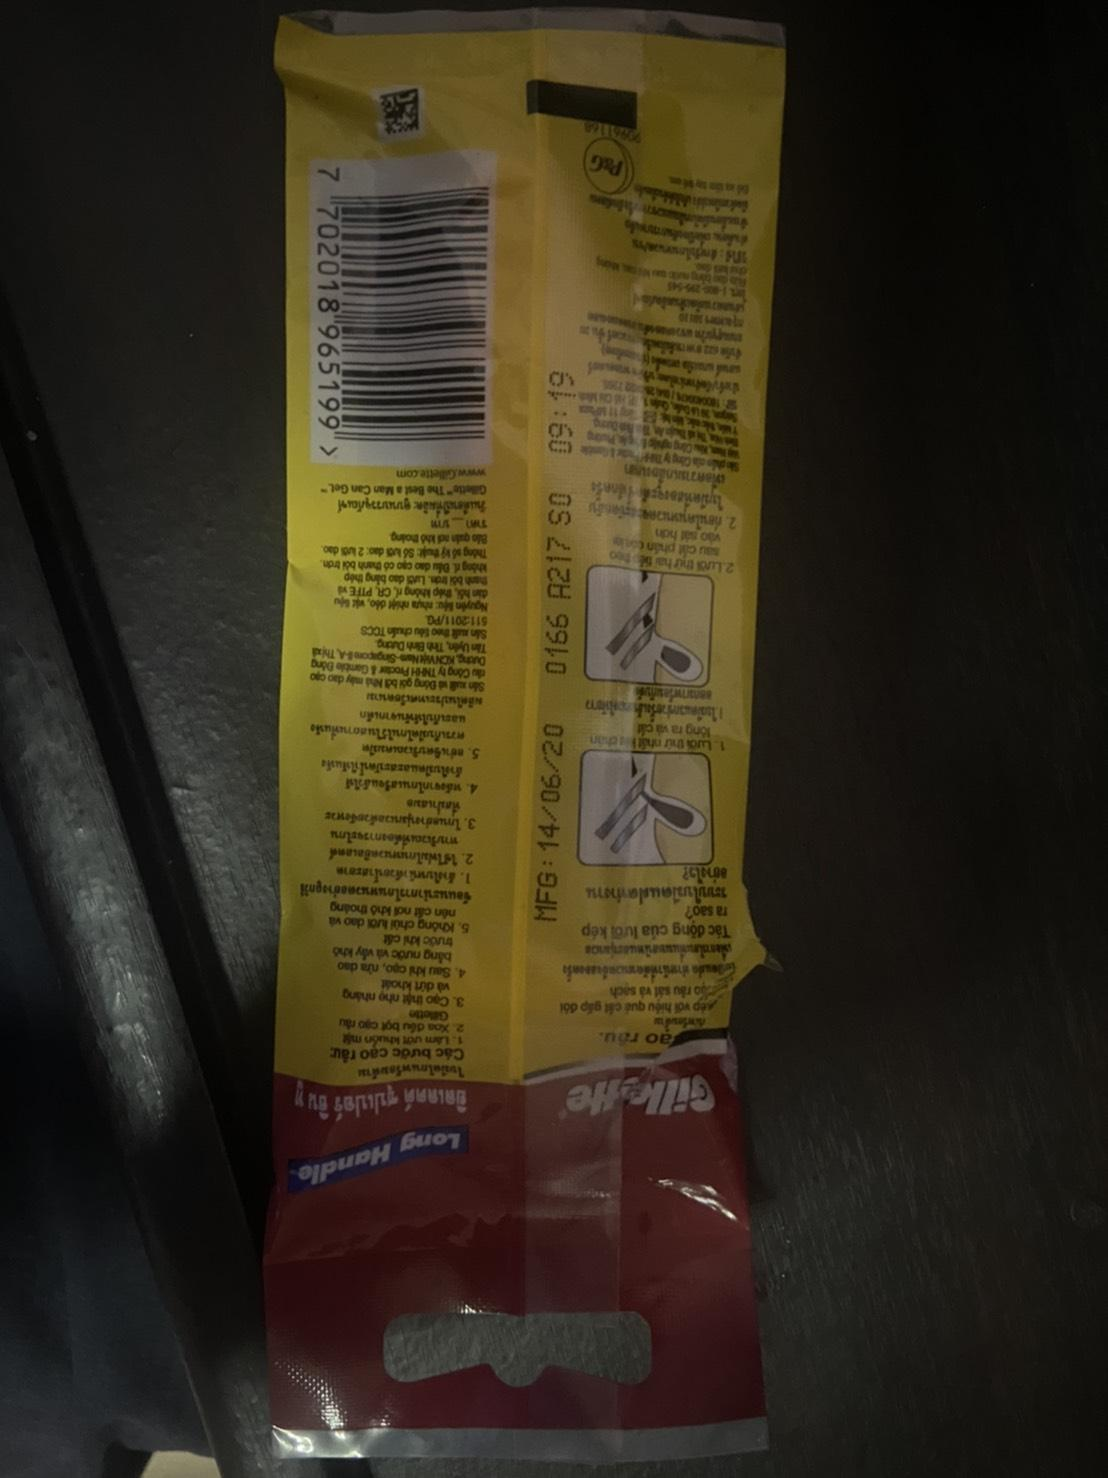plastic: (255, 0, 807, 1478)
